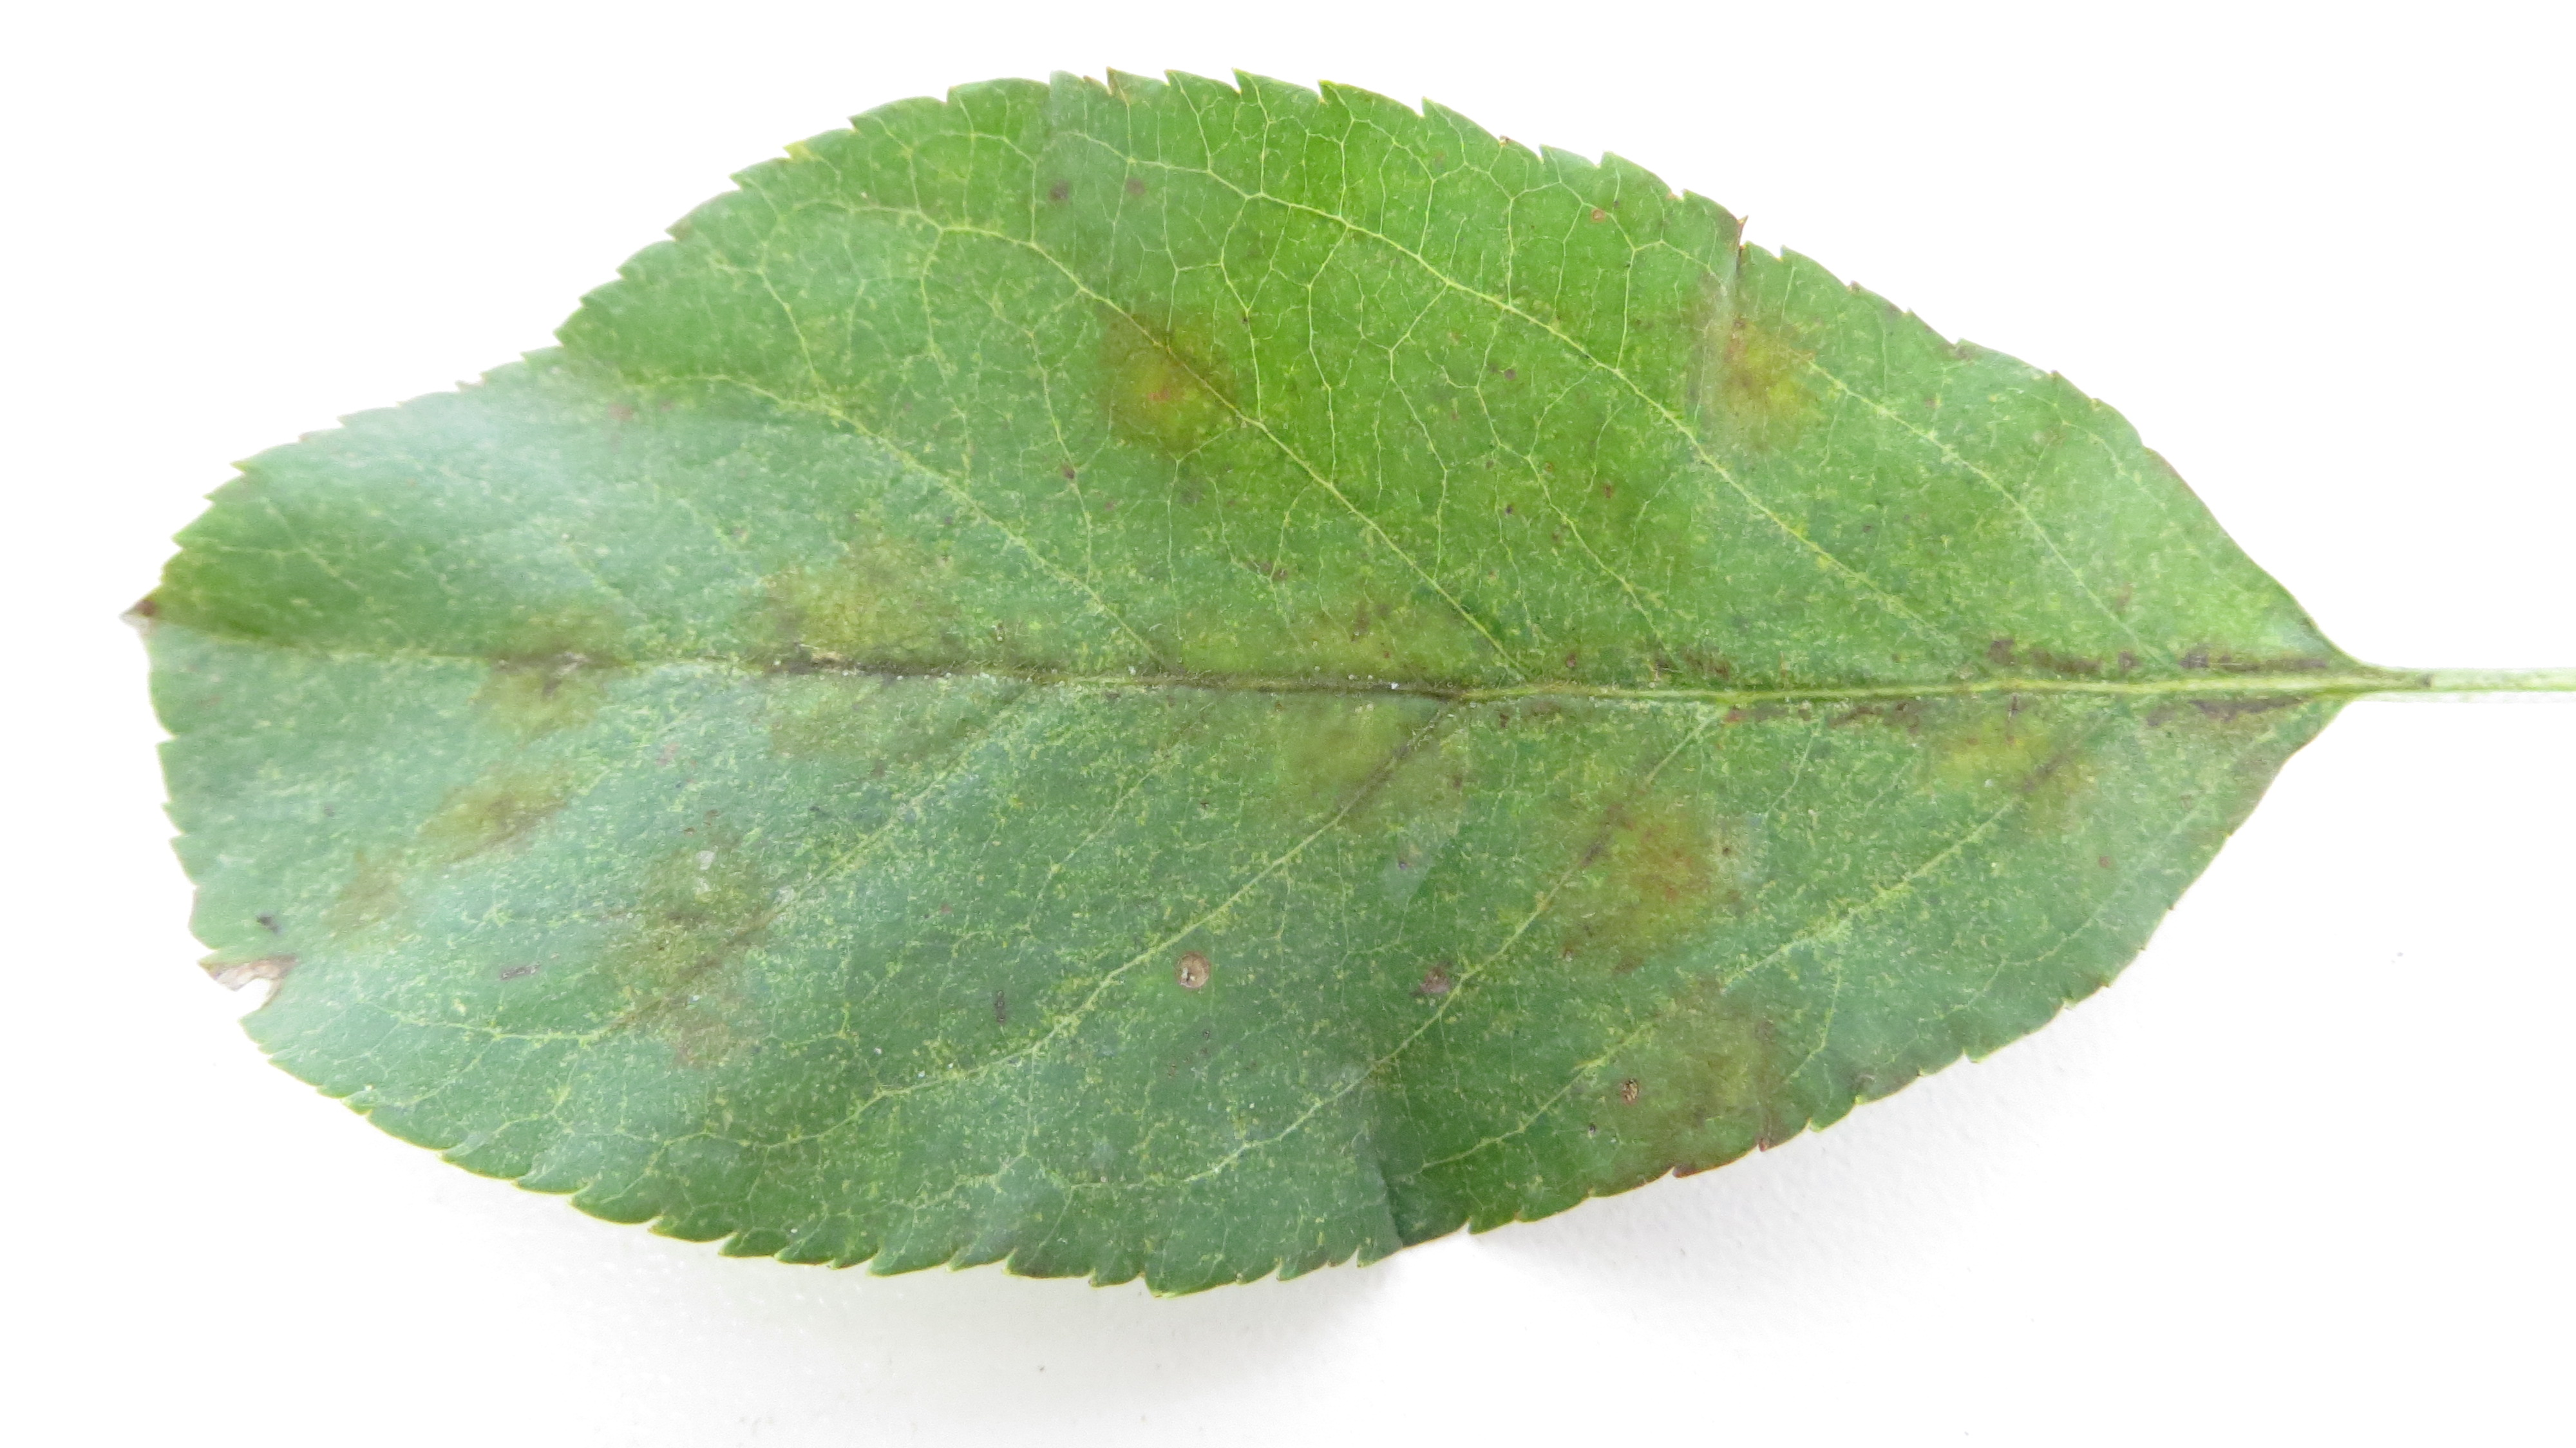sarna: (1265, 577, 1472, 841), (740, 526, 968, 759), (605, 825, 786, 1064), (1546, 770, 1750, 956), (1591, 972, 1776, 1163), (1909, 674, 2074, 850), (469, 581, 644, 740), (1086, 294, 1251, 462), (428, 740, 610, 878), (1683, 276, 1812, 443), (1127, 597, 1256, 758), (2157, 634, 2323, 740), (961, 591, 1077, 726), (1631, 616, 1762, 729), (326, 828, 426, 938), (1497, 627, 1601, 729), (1813, 666, 1909, 745), (1992, 620, 2116, 680)
